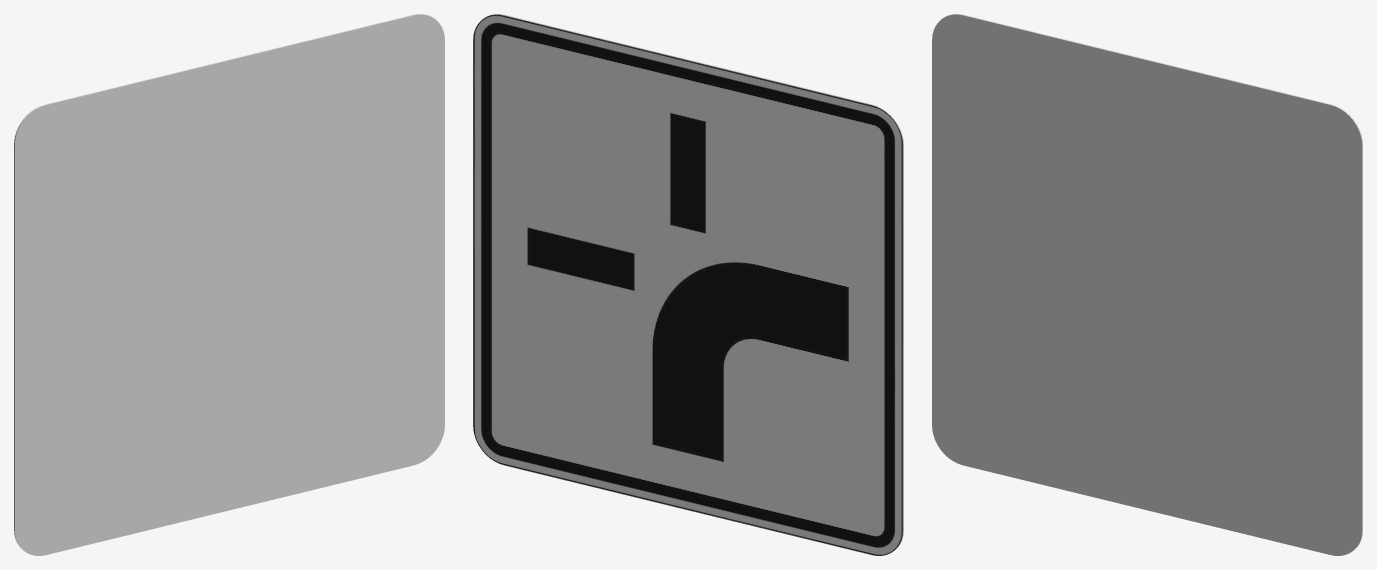
3 views of the same model, side by side, from view 1: azimuth 30°, elevation 25°; view 2: azimuth 150°, elevation 25°; view 3: azimuth 330°, elevation 25° (orthographic).
Parts seen in each view (by area): view 1: Plane; view 2: Plane; view 3: Plane.
Part boxes in pixels (box(x1,y1,x2,y2)): Plane: box(14, 14, 444, 555); Plane: box(473, 14, 903, 555); Plane: box(932, 14, 1362, 555).
Size of the model in its own units: 0.6 by 0.6 by 0.002.
Materials: 2 (1 with a texture image).
